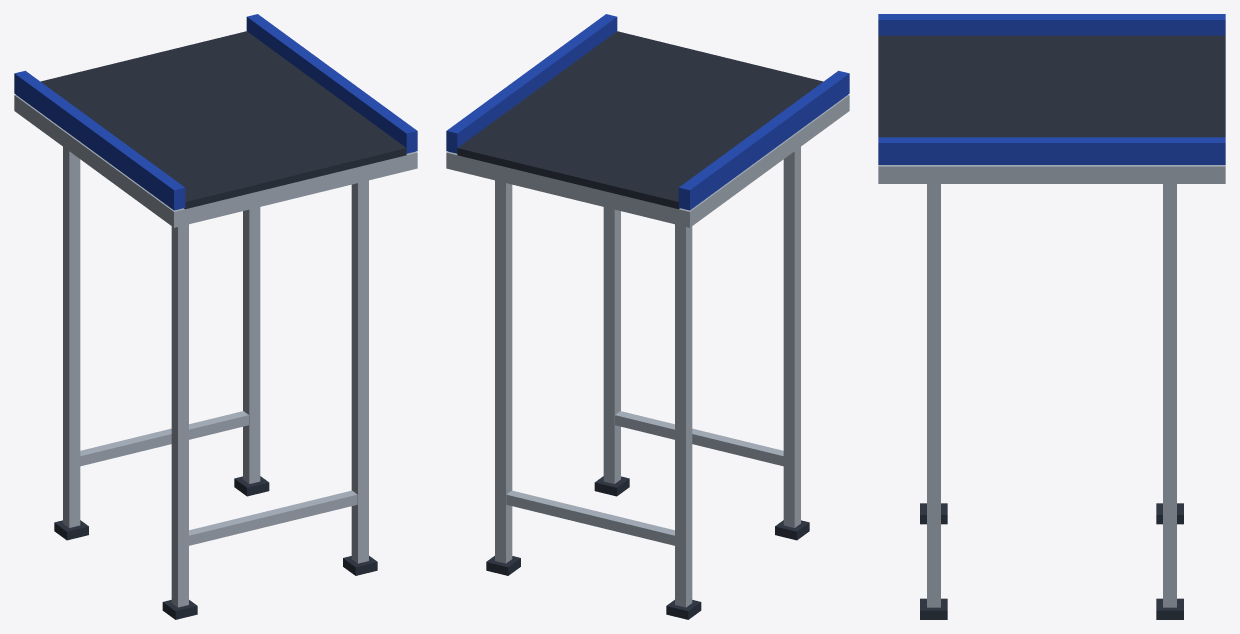
Rendered from SM_MPR_CADFeedBelt.fbx.
3 renders of one model, left to right at view 1: azimuth 30°, elevation 25°; view 2: azimuth 150°, elevation 25°; view 3: azimuth 270°, elevation 25°, orthographic. The views are drawn at different scales.
Parts seen in each view (by area): view 1: SM_MPR_CADFeedBelt; view 2: SM_MPR_CADFeedBelt; view 3: SM_MPR_CADFeedBelt.
Boxes of the visible parts, x1,y1,x2,y2 form: SM_MPR_CADFeedBelt: [14, 14, 417, 619]; SM_MPR_CADFeedBelt: [446, 14, 849, 619]; SM_MPR_CADFeedBelt: [878, 14, 1225, 619].
Bounding box in the file's own units: 88 × 100 × 155.
